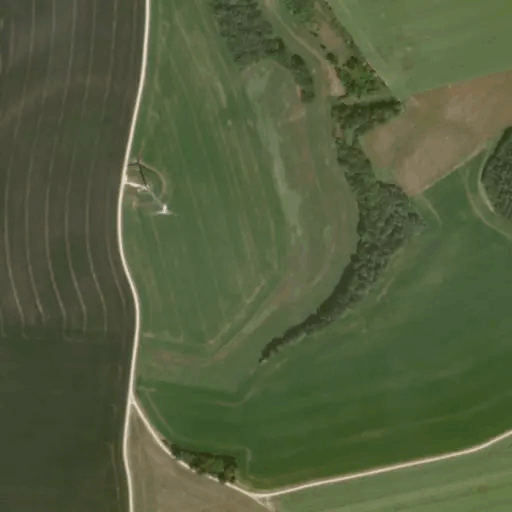wt: (125, 151, 178, 222)
